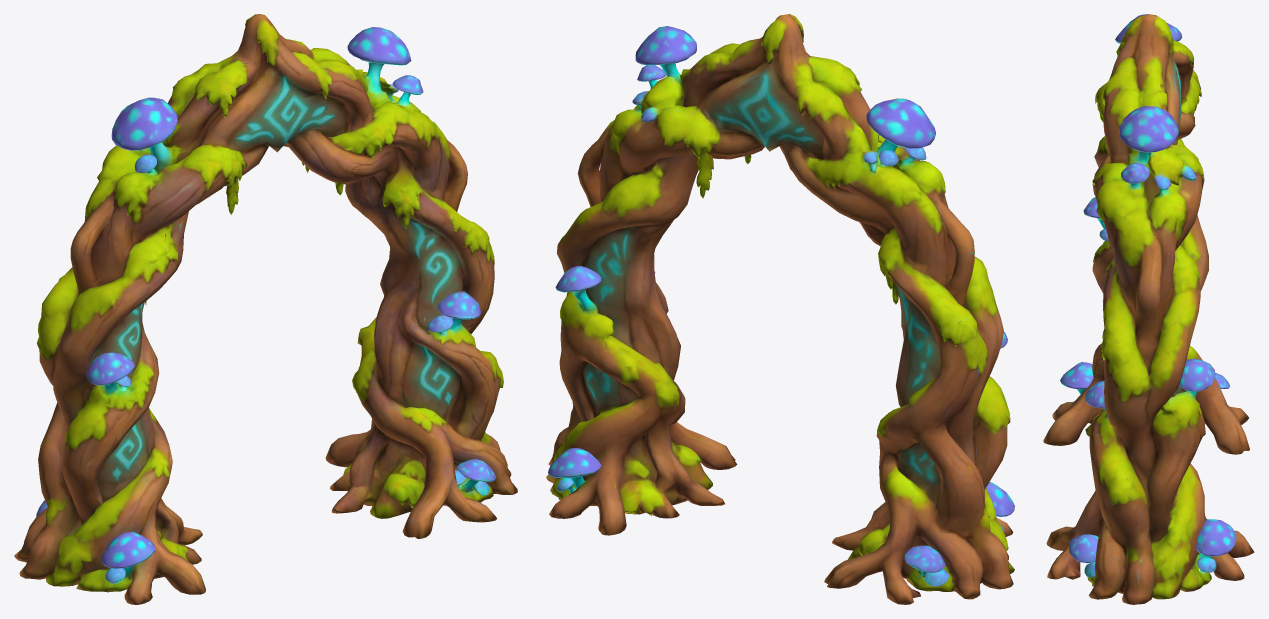
Rendered from root_arch_gate.glb.
3 views of the same model, side by side, from view 1: azimuth 30°, elevation 25°; view 2: azimuth 150°, elevation 25°; view 3: azimuth 270°, elevation 25° (orthographic). The views are drawn at different scales.
Size of what is drawn, in the model's own units: 0.9755 by 1 by 0.3997.
1 material, 1 textured.
